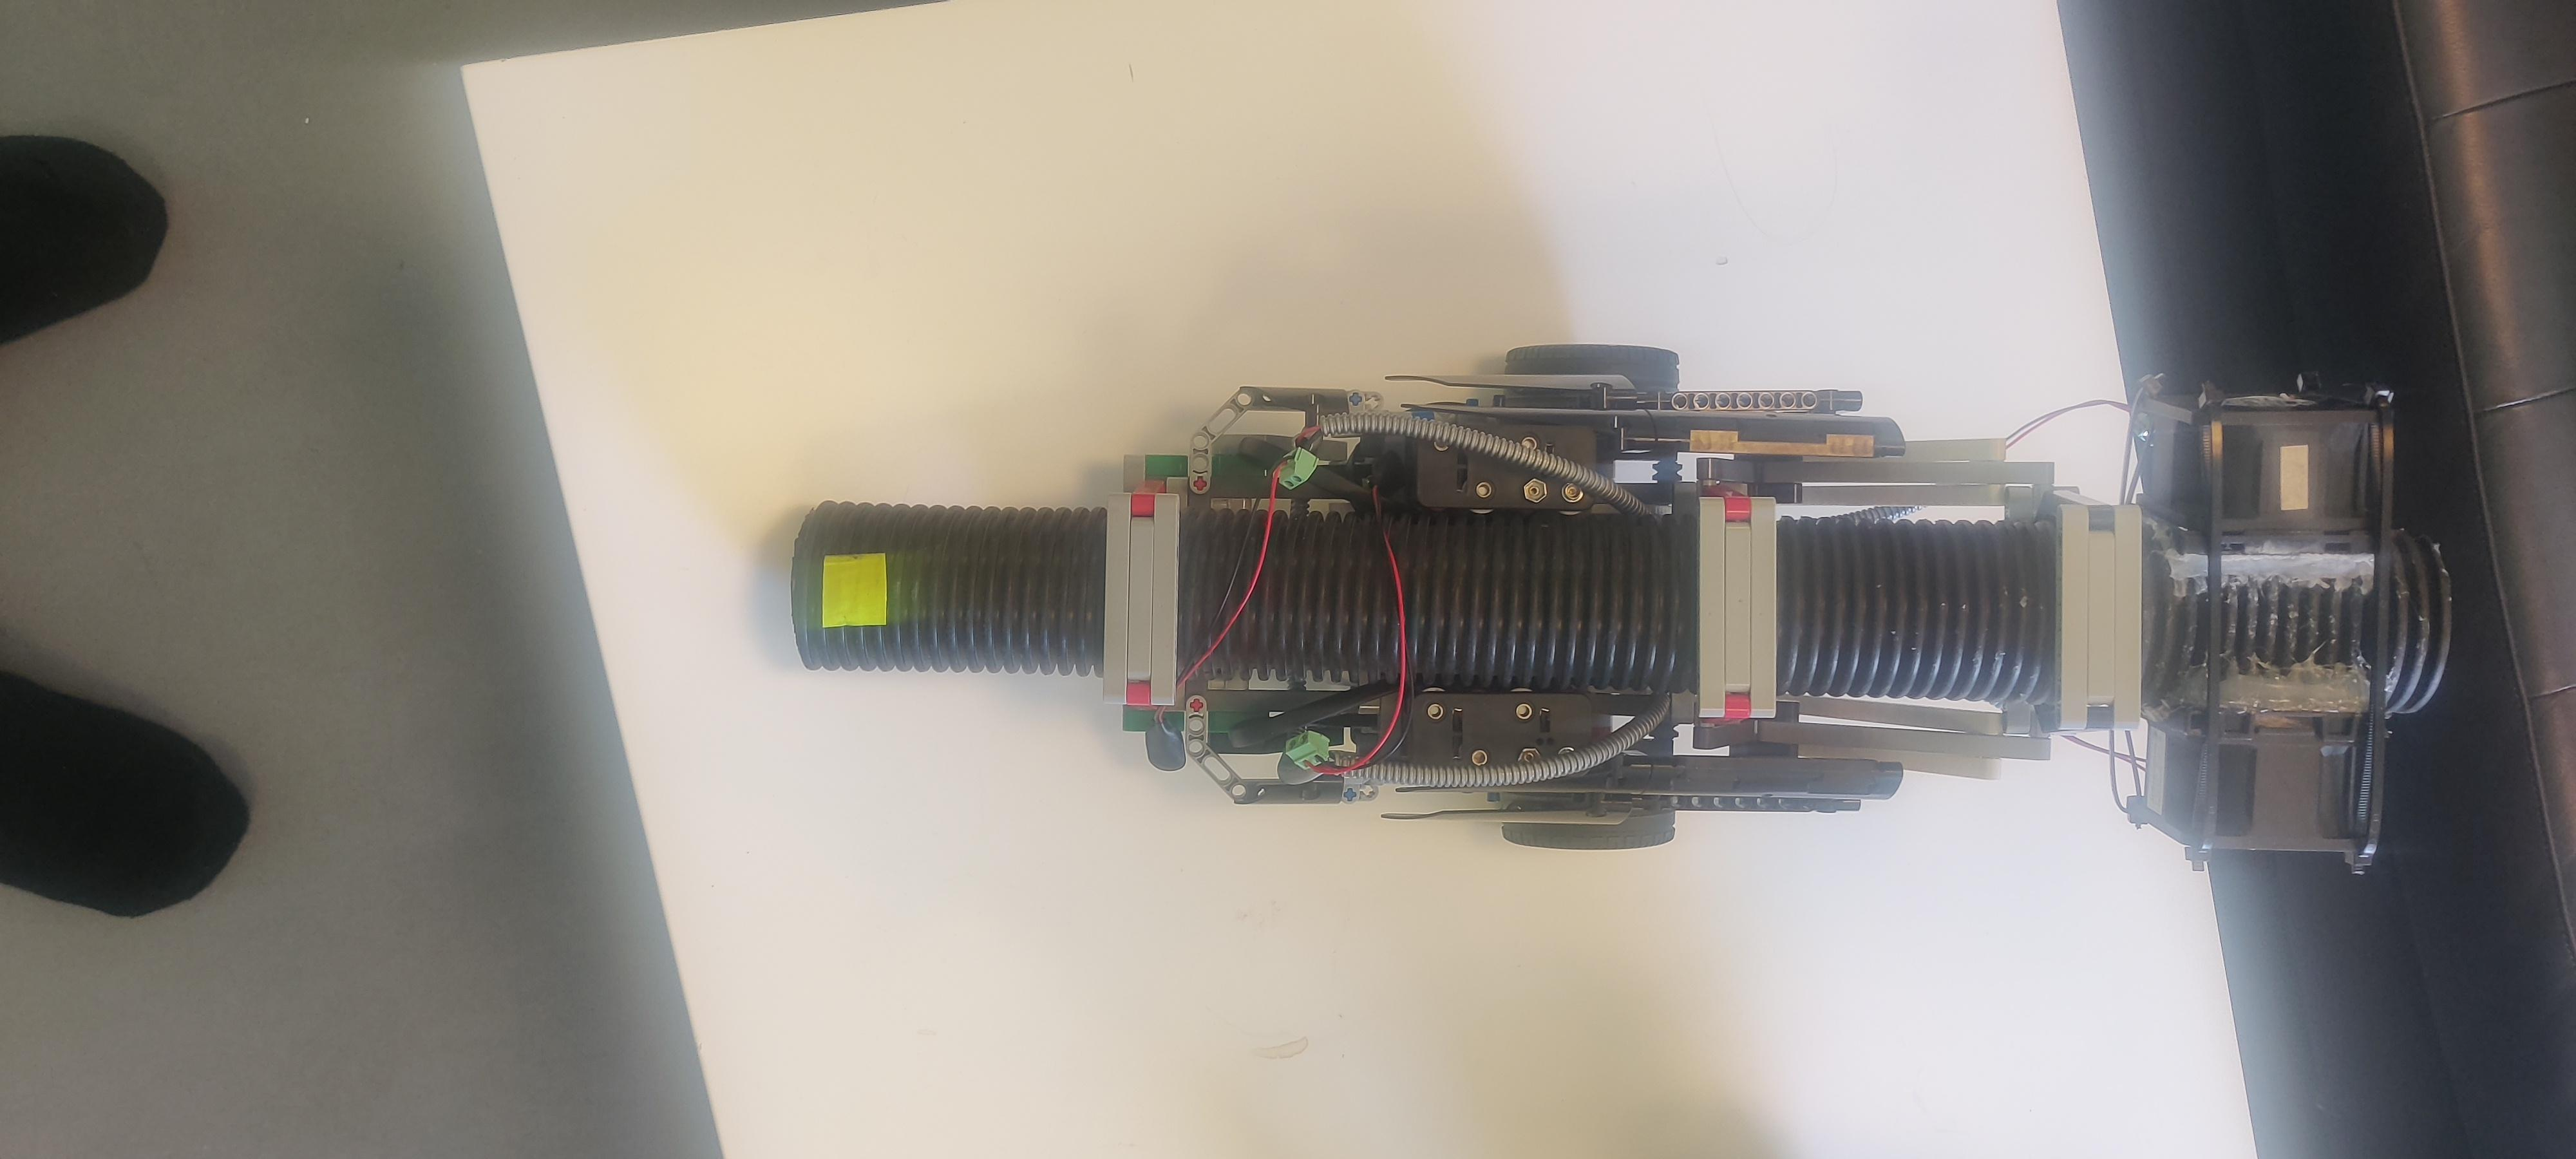robot: (792, 345, 2458, 857)
robot-front: (797, 504, 1101, 670)
